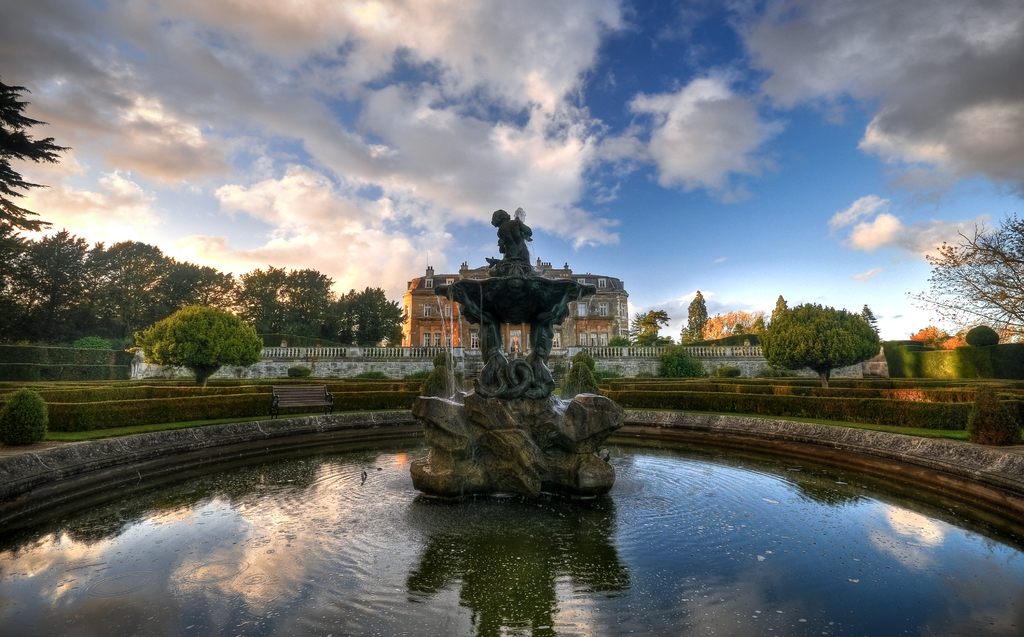Tree: (0, 76, 407, 392), (632, 290, 883, 388), (905, 214, 1023, 341)
